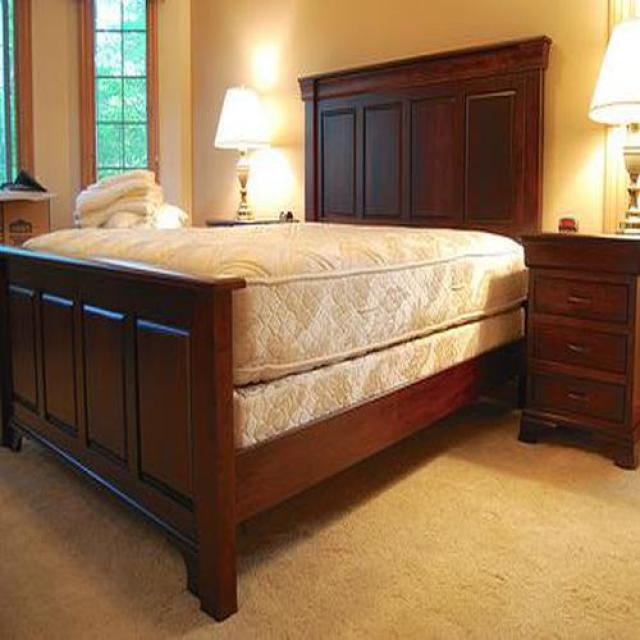chair: (0, 37, 552, 623)
